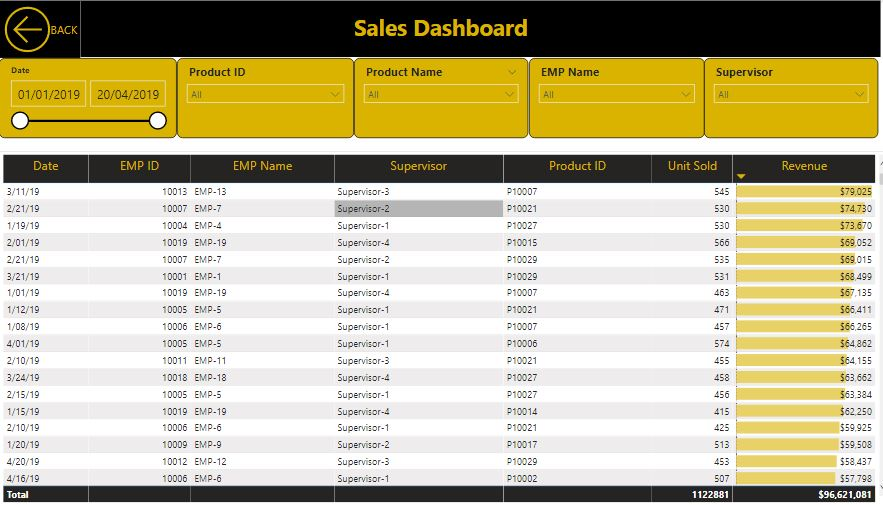

What the dashboard file says about the page in this screenshot:
{"tool":"powerbi","page":{"name":"Drill Down Dashboard","canvas":[1280,720],"ordinal":1},"visuals":[{"type":"basicShape","box":[0,0,1280,82.2],"z":0},{"type":"textbox","box":[503.3,11.7,275.1,58.7],"z":1000},{"type":"slicer","fields":{"Values":["Sales Data.Date"]},"box":[13.4,82.2,253.3,114.1],"z":2000},{"type":"slicer","fields":{"Values":["Product Master.Product ID"]},"box":[266.7,82.2,251.6,114.1],"z":3000},{"type":"slicer","fields":{"Values":["Product Master.Product Name"]},"box":[518.4,82.2,248.3,114.1],"z":4000},{"type":"slicer","fields":{"Values":["Emp Master.EMP Name"]},"box":[766.7,82.2,250,114.1],"z":5000},{"type":"slicer","fields":{"Values":["Emp Master.Supervisor"]},"box":[1016.6,82.2,248.3,114.1],"z":6000},{"type":"actionButton","box":[13.4,1.7,115.8,80.5],"z":12001},{"type":"tableEx","fields":{"Values":["Sales Data.Date","Emp Master.EMP ID","Emp Master.EMP Name","Emp Master.Supervisor","Sales Data.Product ID","Sum(Sales Data.Unit Sold)","Sum(Sales Data.Revenue)"]},"box":[13.4,214.7,1266.6,505],"z":12002}]}

Visuals, with their boxes in screenshot pixels (x1, y1, x2, y2), scaled from the page's 1280x720 canvas onto the 883x505 screenshot:
basicShape: crop(0, 0, 882, 58)
textbox: crop(347, 8, 537, 49)
slicer - Sales Data.Date: crop(9, 58, 184, 138)
slicer - Product Master.Product ID: crop(184, 58, 358, 138)
slicer - Product Master.Product Name: crop(358, 58, 529, 138)
slicer - Emp Master.EMP Name: crop(529, 58, 701, 138)
slicer - Emp Master.Supervisor: crop(701, 58, 873, 138)
actionButton: crop(9, 1, 89, 58)
tableEx - Sales Data.Date x Emp Master.EMP ID: crop(9, 151, 882, 504)
